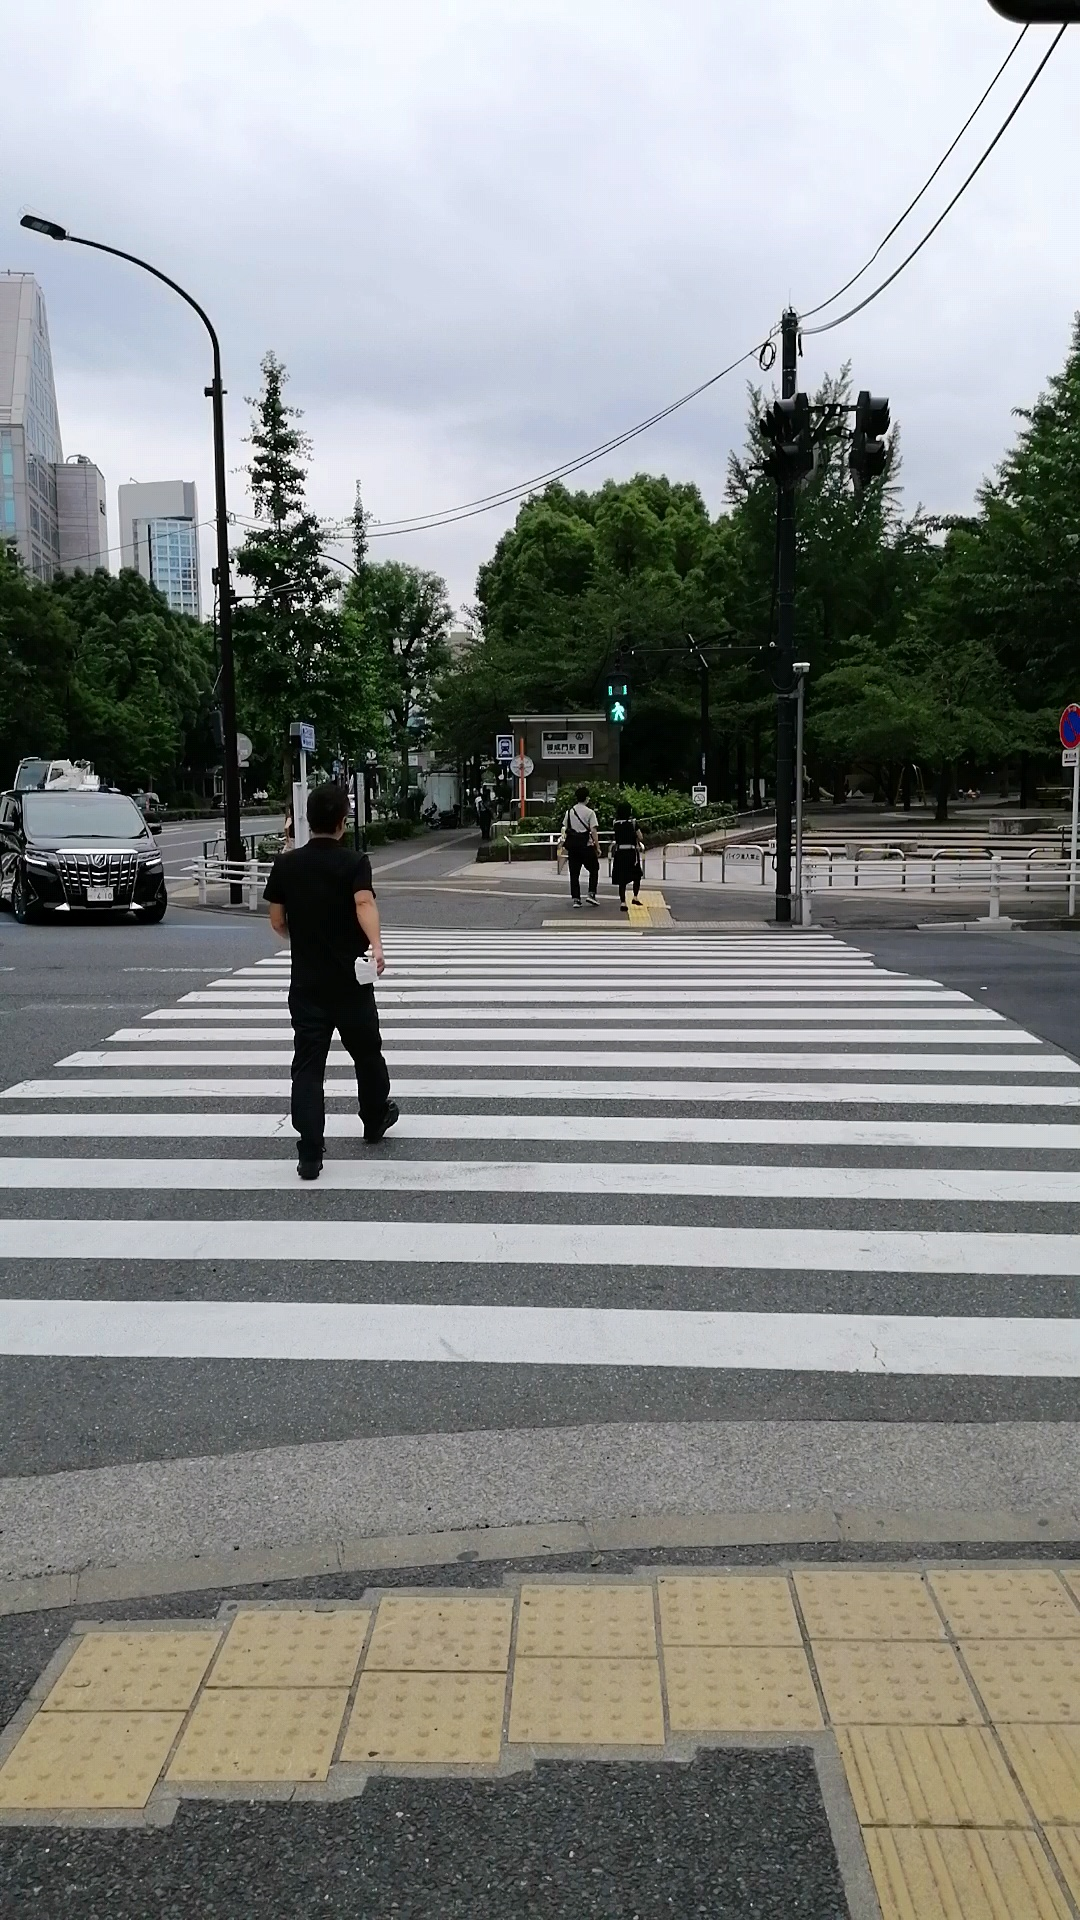green: (603, 676, 632, 724)
